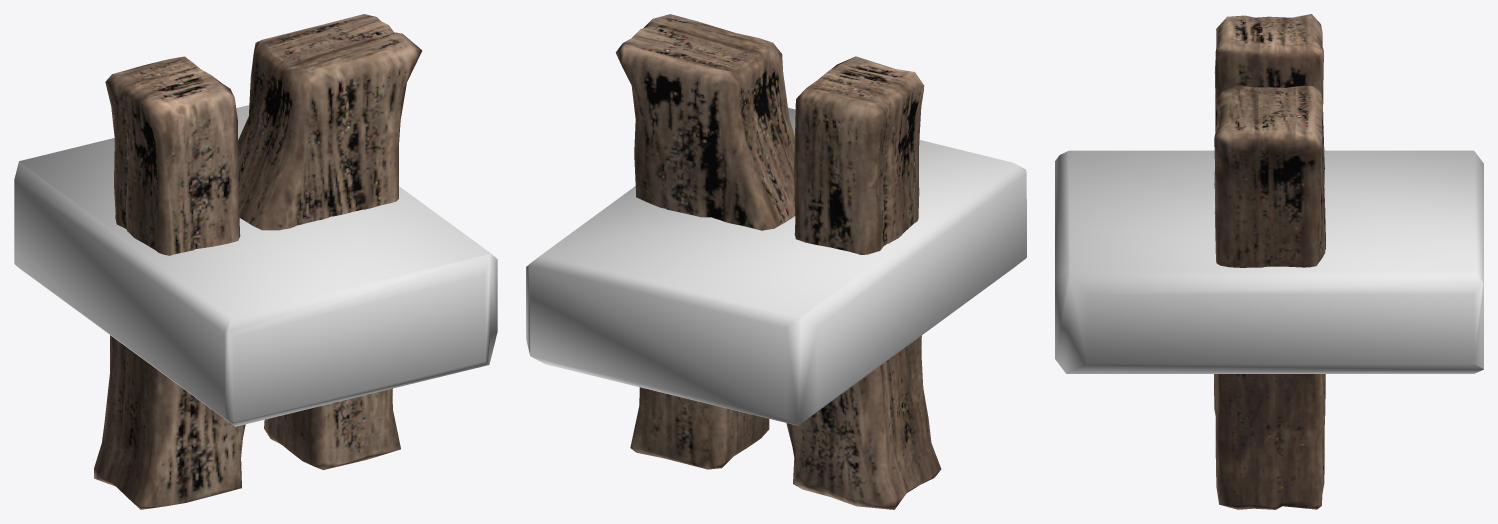
The model's file is SM_DRUNKEN_SKULL_N.fbx.
3 views of the same model, side by side, from view 1: azimuth 30°, elevation 25°; view 2: azimuth 150°, elevation 25°; view 3: azimuth 270°, elevation 25° (orthographic). The views are drawn at different scales.
Visible parts, largest first — view 1: SM_DRUNKEN_SKULL_N_ConvexHulls, SM_DRUNKEN_SKULL_N; view 2: SM_DRUNKEN_SKULL_N_ConvexHulls, SM_DRUNKEN_SKULL_N; view 3: SM_DRUNKEN_SKULL_N_ConvexHulls, SM_DRUNKEN_SKULL_N.
Boxes of the visible parts, x1,y1,x2,y2 form: SM_DRUNKEN_SKULL_N_ConvexHulls: (14,105,497,426); SM_DRUNKEN_SKULL_N: (94,14,422,509); SM_DRUNKEN_SKULL_N_ConvexHulls: (526,107,1026,425); SM_DRUNKEN_SKULL_N: (615,14,941,509); SM_DRUNKEN_SKULL_N_ConvexHulls: (1055,150,1483,373); SM_DRUNKEN_SKULL_N: (1214,14,1325,509).
Bounding box in the file's own units: 0.6462 × 0.8784 × 0.8804.
